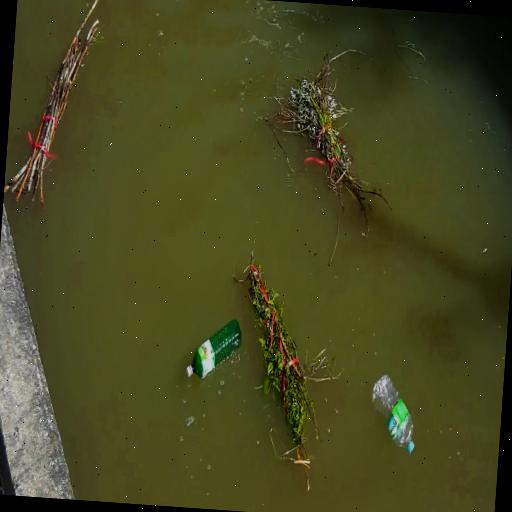plastic: (186, 310, 244, 389), (370, 370, 416, 460)
twig: (228, 244, 342, 476), (7, 0, 111, 212), (280, 63, 374, 203)
